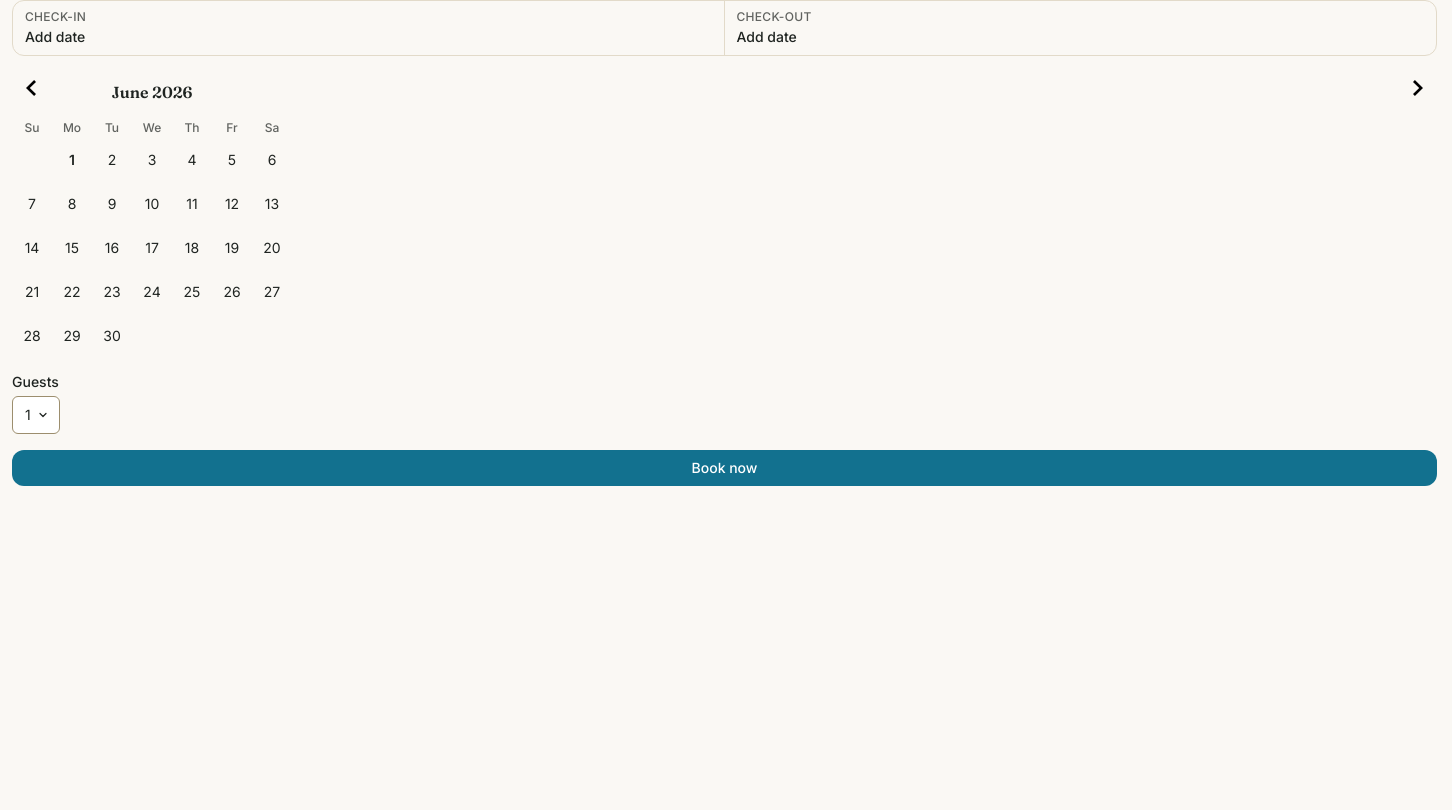
Test case: BookingForm › allows a single-night stay
This screenshot has width=1452, height=810.
Click the button "10" at x=152, y=204, box [132,184,172,224]
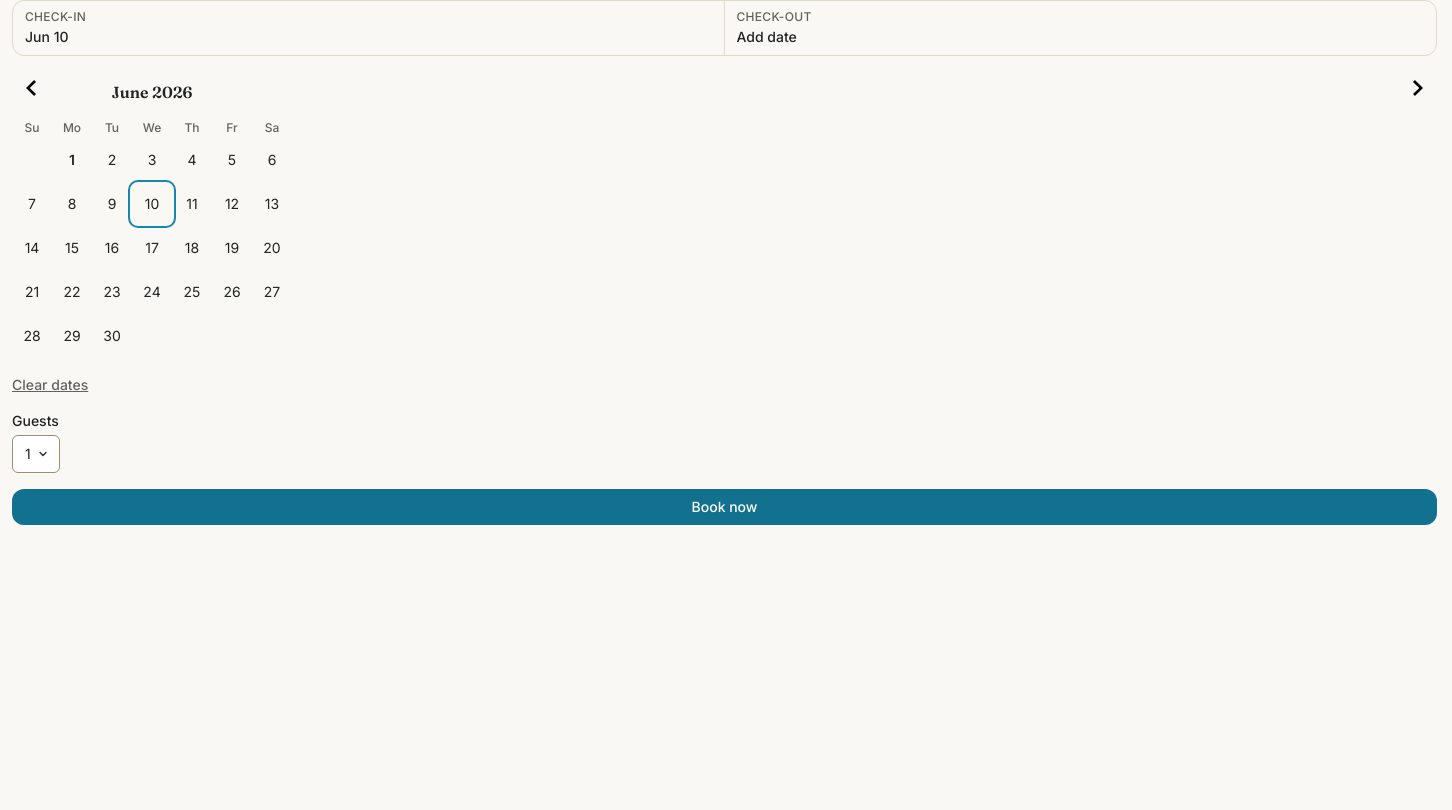
Click the button "11" at x=192, y=204, box [172,184,212,224]
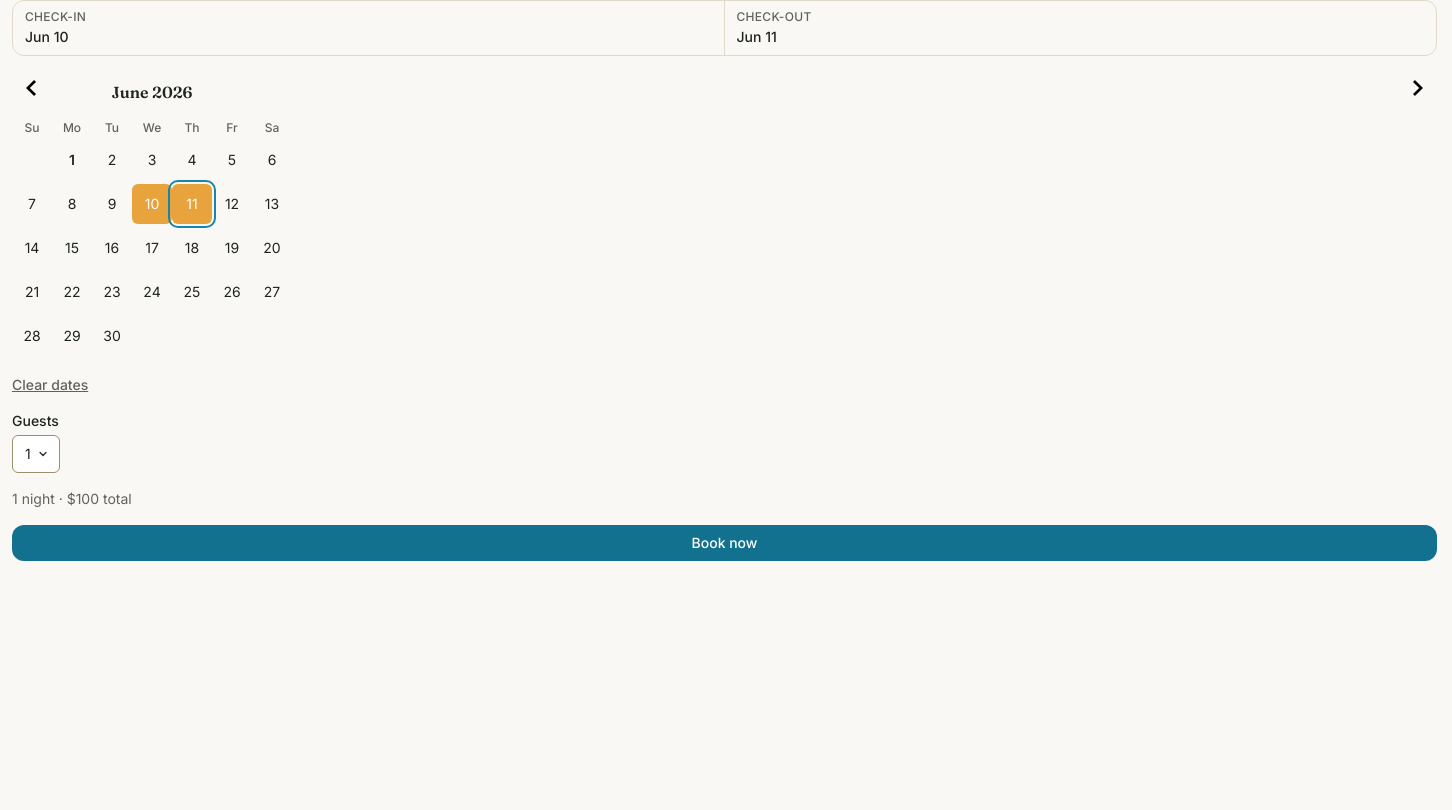
Expected: the text "1 night · $100 total" is shown, [12,490,132,507]
